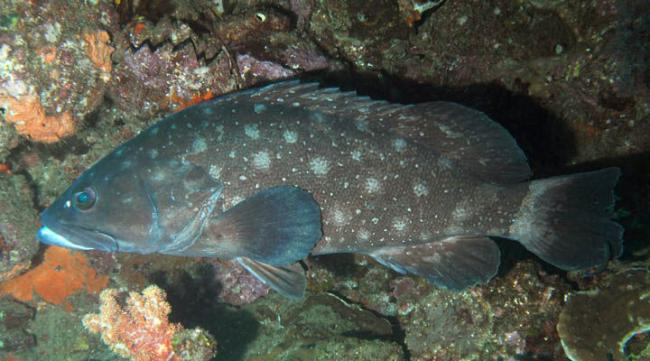fish: (36, 79, 624, 302)
